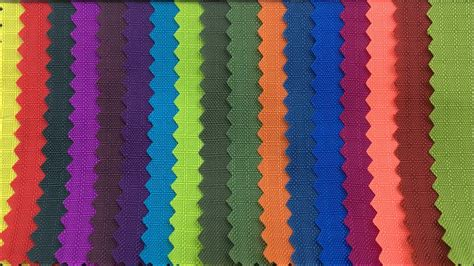nylon: (1, 1, 474, 264)
